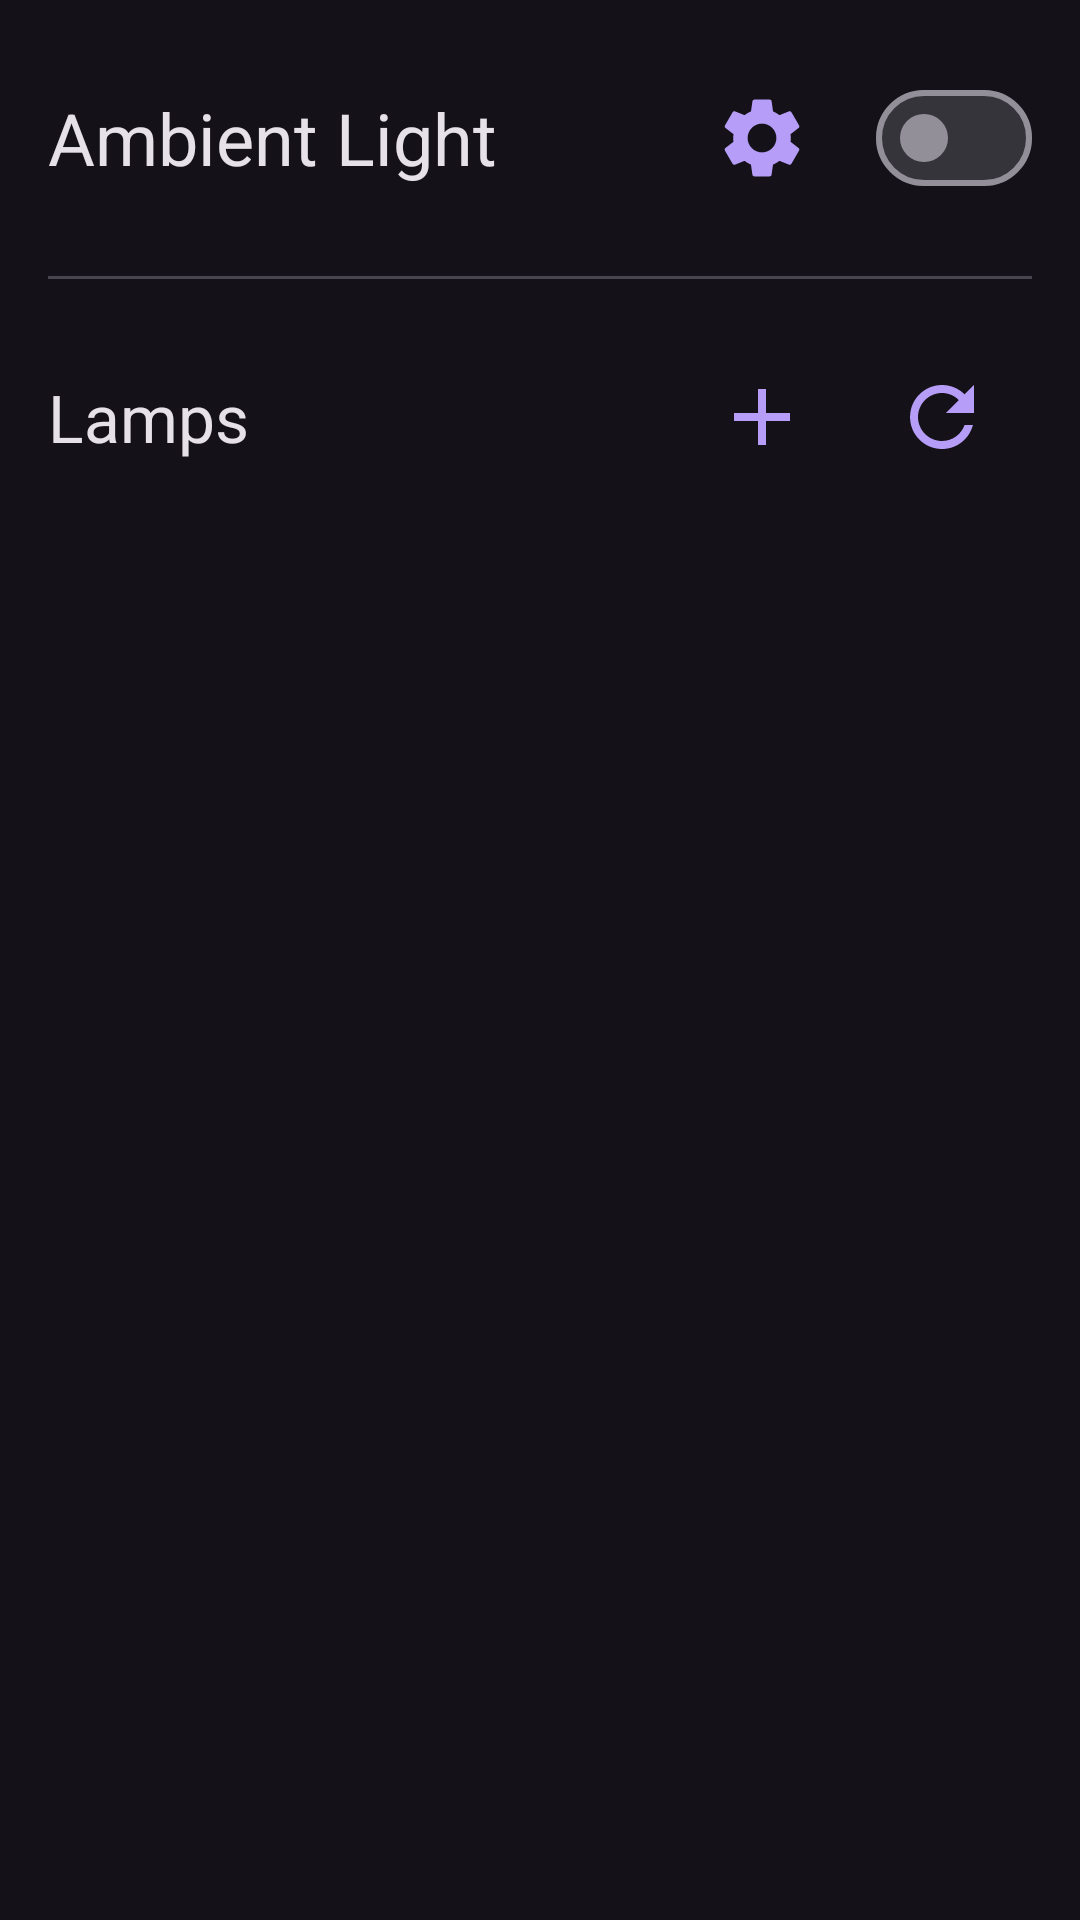

Where icons sit on this 1080 × 1920 app screen, as (x1=x1, y1=y1, x2=x2, y2=y2):
Add a lamp by IP address: (x1=734, y1=389, x2=790, y2=445)
Search lamps: (x1=910, y1=385, x2=974, y2=449)
Settings: (x1=724, y1=99, x2=800, y2=177)
